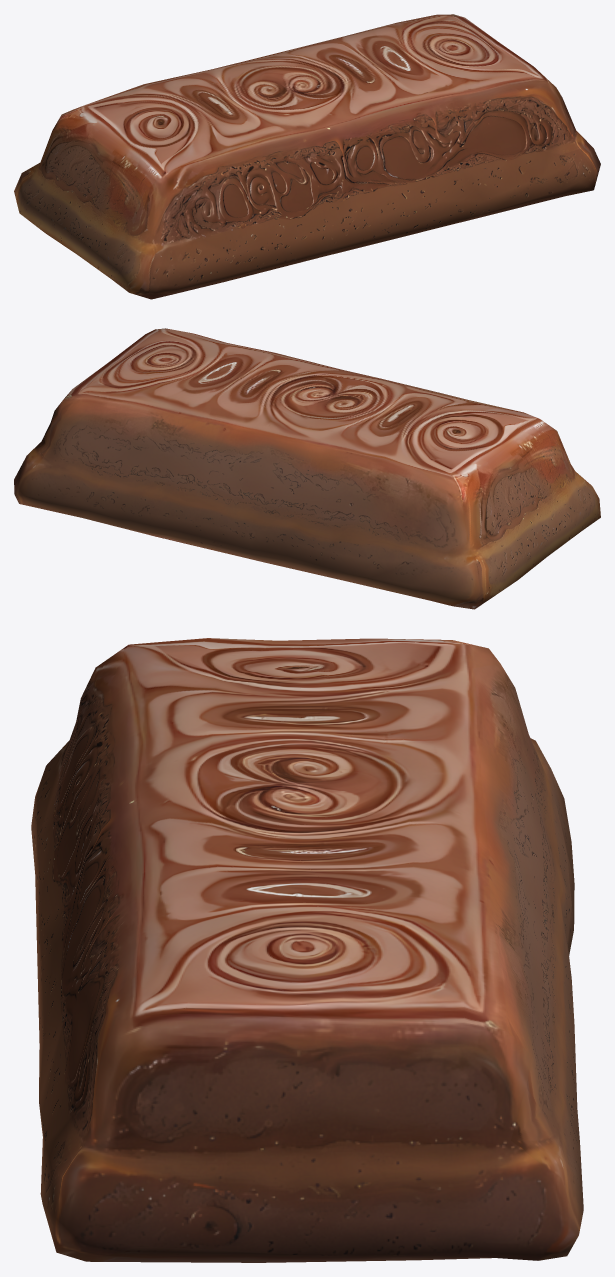
The model's file is chocolateBrownie.fbx.
The picture shows the model from 3 angles, top to bottom: view 1: azimuth 30°, elevation 25°; view 2: azimuth 150°, elevation 25°; view 3: azimuth 270°, elevation 25°; orthographic projection. The views are drawn at different scales.
Visible parts, largest first — view 1: BrownieBar_Mesh; view 2: BrownieBar_Mesh; view 3: BrownieBar_Mesh.
Part boxes in pixels (left/top/right/bottom): BrownieBar_Mesh: left=14, top=14, right=600, bottom=299; BrownieBar_Mesh: left=14, top=328, right=600, bottom=609; BrownieBar_Mesh: left=31, top=638, right=583, bottom=1262.
Size of the model in its own units: 118 by 31.84 by 59.4.
